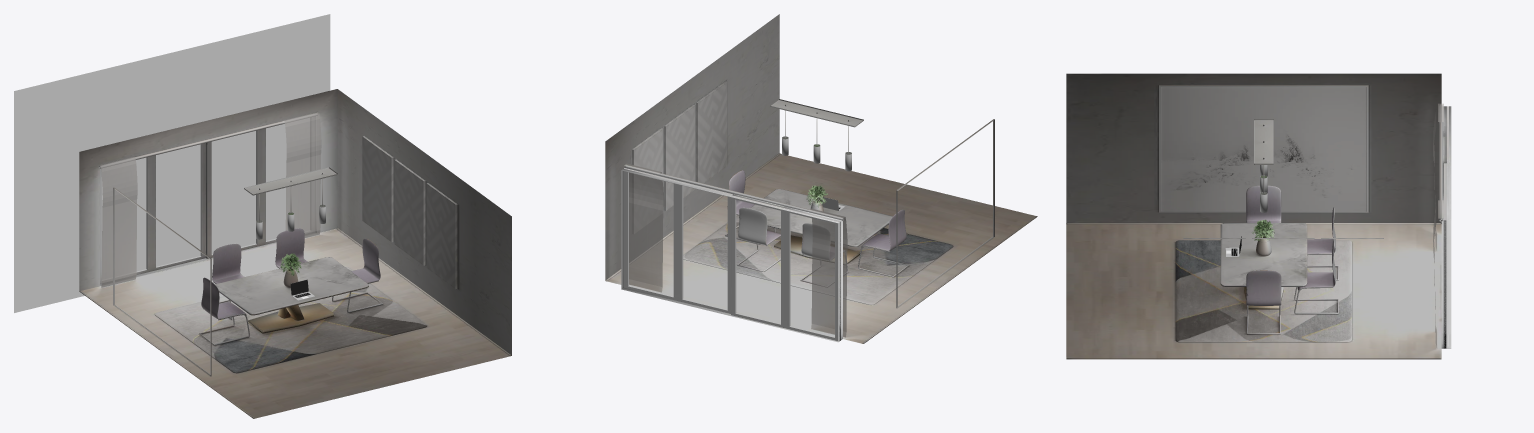
File: room2.glb
3 renders of one model, left to right at view 1: azimuth 30°, elevation 25°; view 2: azimuth 150°, elevation 25°; view 3: azimuth 270°, elevation 25°, orthographic. The views are drawn at different scales.
Parts seen in each view (by area): view 1: Backdrop_Backdrop_0, Walls_Walls_0, Modern Dining Room_Floor_0, Carpet_Carpet_0, DiningTable_DiningTable_0, Paintings_Paintings_0, Curtains_Curtains_0, DoorFrame_DoorFrame_0, LightChrome_LightChrome_0, PictureFrame_PictureFrame_0, CurtainPole_CurtainPole_0, Silver colour Cover.001; view 2: Modern Dining Room_Floor_0, Walls_Walls_0, Carpet_Carpet_0, DoorFrame_DoorFrame_0, Paintings_Paintings_0, DiningTable_DiningTable_0, Curtains_Curtains_0, LightChrome_LightChrome_0, PictureFrame_PictureFrame_0, CurtainPole_CurtainPole_0, Silver colour Cover.001; view 3: Modern Dining Room_Floor_0, Walls_Walls_0, Picture_Picture_0, Carpet_Carpet_0, DiningTable_DiningTable_0, DoorFrame_DoorFrame_0, PictureFrame_PictureFrame_0, LightChrome_LightChrome_0, Curtains_Curtains_0, Silver colour Cover.001, CurtainPole_CurtainPole_0.
Boxes of the visible parts, <box> form: Backdrop_Backdrop_0: <box>14,14,330,312</box>; Walls_Walls_0: <box>79,89,511,355</box>; Modern Dining Room_Floor_0: <box>79,228,511,418</box>; Carpet_Carpet_0: <box>154,267,427,373</box>; DiningTable_DiningTable_0: <box>199,228,382,345</box>; Paintings_Paintings_0: <box>362,136,457,288</box>; Curtains_Curtains_0: <box>99,112,321,287</box>; DoorFrame_DoorFrame_0: <box>100,116,316,285</box>; LightChrome_LightChrome_0: <box>244,167,337,222</box>; PictureFrame_PictureFrame_0: <box>113,187,211,376</box>; CurtainPole_CurtainPole_0: <box>99,113,317,168</box>; Silver colour Cover.001: <box>256,204,325,300</box>; Modern Dining Room_Floor_0: <box>605,153,1037,343</box>; Walls_Walls_0: <box>605,14,779,279</box>; Carpet_Carpet_0: <box>683,215,953,304</box>; DoorFrame_DoorFrame_0: <box>621,167,842,342</box>; Paintings_Paintings_0: <box>632,81,727,233</box>; DiningTable_DiningTable_0: <box>725,170,908,287</box>; Curtains_Curtains_0: <box>624,163,847,337</box>; LightChrome_LightChrome_0: <box>770,99,863,154</box>; PictureFrame_PictureFrame_0: <box>896,119,994,308</box>; CurtainPole_CurtainPole_0: <box>625,165,843,220</box>; Silver colour Cover.001: <box>782,136,851,210</box>; Modern Dining Room_Floor_0: <box>1066,223,1441,359</box>; Walls_Walls_0: <box>1066,73,1441,223</box>; Picture_Picture_0: <box>1160,87,1366,211</box>; Carpet_Carpet_0: <box>1175,240,1351,342</box>; DiningTable_DiningTable_0: <box>1220,185,1338,334</box>; DoorFrame_DoorFrame_0: <box>1441,106,1451,348</box>; PictureFrame_PictureFrame_0: <box>1159,85,1368,212</box>; LightChrome_LightChrome_0: <box>1254,119,1273,194</box>; Curtains_Curtains_0: <box>1433,103,1443,346</box>; Silver colour Cover.001: <box>1225,165,1267,256</box>; CurtainPole_CurtainPole_0: <box>1439,104,1442,221</box>.
Size of the model in its own units: 6.98 by 4.68 by 8.05.
18 materials, 18 textured.
